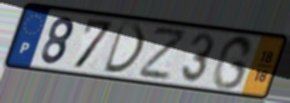3: (179, 31, 218, 86)
7: (73, 16, 117, 71)
8: (39, 14, 76, 66)
D: (100, 20, 148, 76)
G: (210, 33, 256, 92)
Z: (136, 27, 190, 82)
